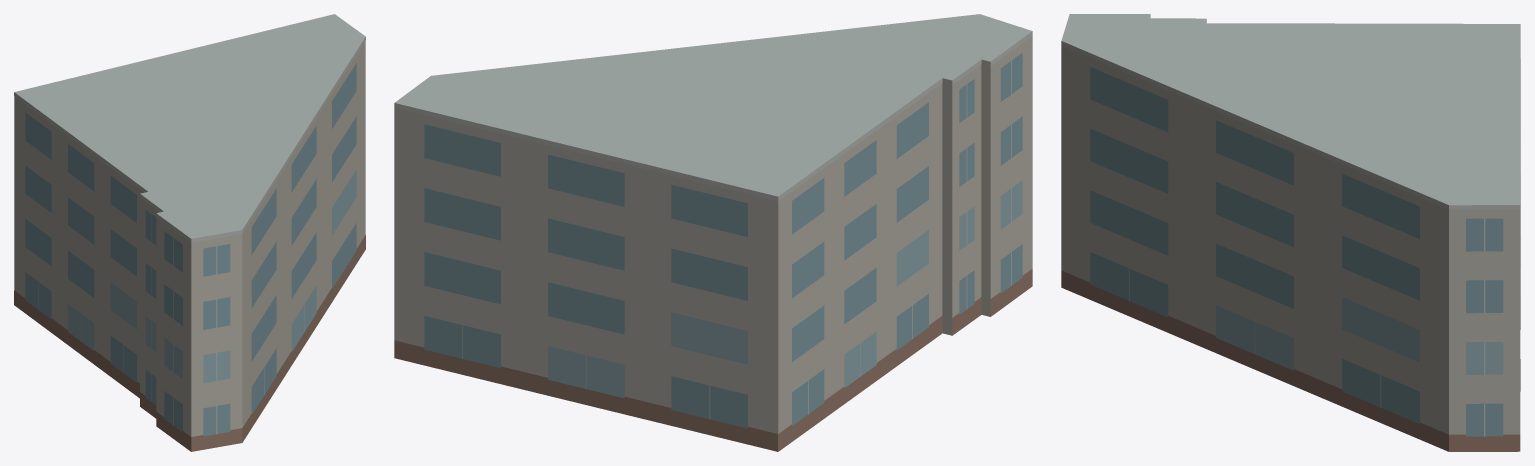
File: survey-upis-32621089.glb
The picture shows the model from 3 angles, left to right: view 1: azimuth 30°, elevation 25°; view 2: azimuth 150°, elevation 25°; view 3: azimuth 270°, elevation 25°; orthographic projection. The views are drawn at different scales.
Parts seen in each view (by area): view 1: survey-upis-32621089.tmp; view 2: survey-upis-32621089.tmp; view 3: survey-upis-32621089.tmp.
Part boxes in pixels (box(x1,y1,x2,y2)): survey-upis-32621089.tmp: box(14, 14, 365, 451); survey-upis-32621089.tmp: box(394, 14, 1032, 451); survey-upis-32621089.tmp: box(1061, 14, 1520, 451).
Bounding box in the file's own units: 21.62 × 13 × 21.94.
